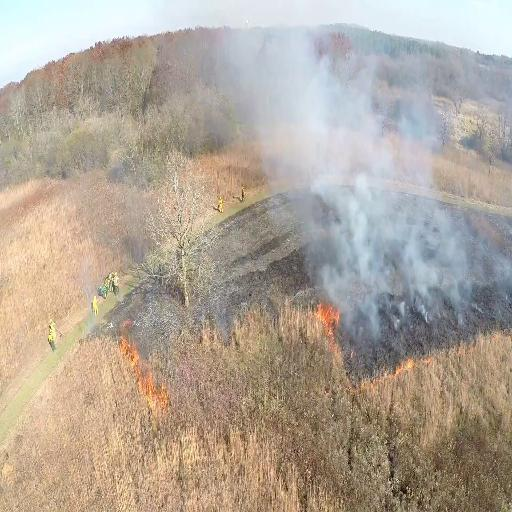fire: (314, 295, 512, 389), (112, 325, 169, 413)
smoke: (249, 70, 463, 336)
